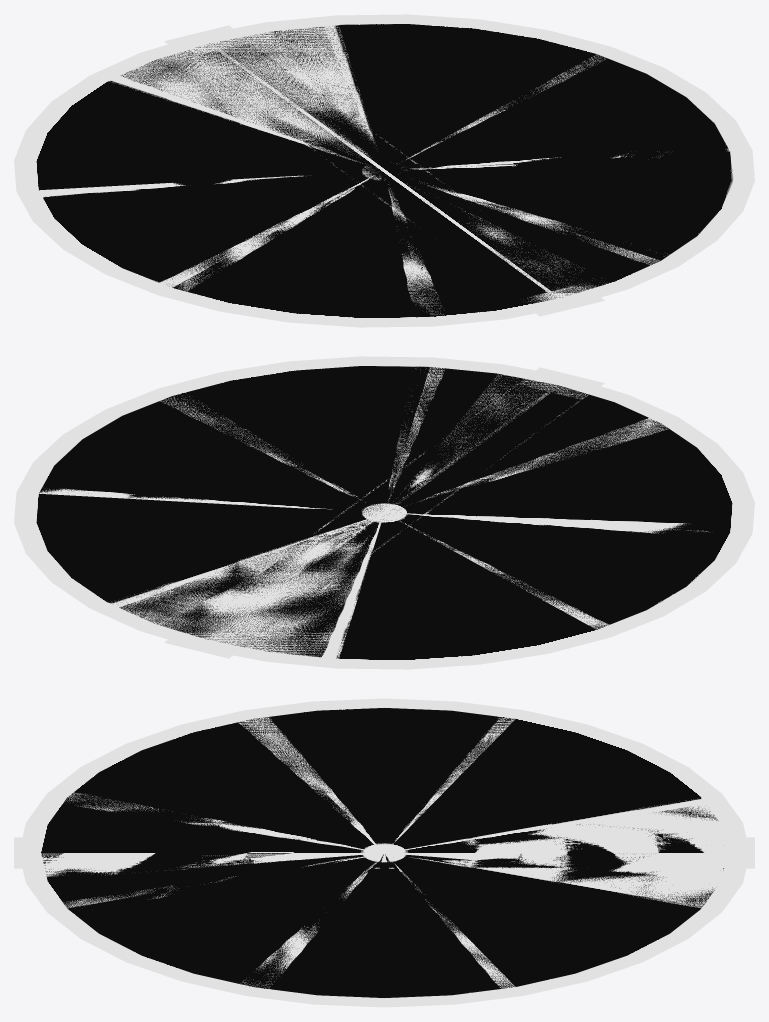
File: BSHocari.fbx
3 renders of one model, top to bottom at view 1: azimuth 30°, elevation 25°; view 2: azimuth 150°, elevation 25°; view 3: azimuth 270°, elevation 25°, orthographic.
Parts seen in each view (by area): view 1: BS_Circle, BS_Cross, BS_Moon, BS_HalfCircle, BS_Line, BS_Cone; view 2: BS_Circle, BS_Cross, BS_HalfCircle, BS_Moon, BS_Cone, BS_Line; view 3: BS_Circle, BS_HalfCircle, BS_Moon, BS_Cross, BS_Cone, BS_Line.
Part boxes in pixels (x1=…): BS_Circle: x1=14, y1=14, x2=753, y2=327; BS_Cross: x1=16, y1=15, x2=752, y2=294; BS_Moon: x1=17, y1=54, x2=754, y2=316; BS_HalfCircle: x1=200, y1=14, x2=753, y2=304; BS_Line: x1=164, y1=25, x2=604, y2=316; BS_Cone: x1=390, y1=181, x2=678, y2=326; BS_Circle: x1=14, y1=356, x2=754, y2=669; BS_Cross: x1=21, y1=393, x2=728, y2=668; BS_HalfCircle: x1=14, y1=356, x2=565, y2=647; BS_Moon: x1=17, y1=357, x2=749, y2=631; BS_Cone: x1=385, y1=357, x2=676, y2=511; BS_Line: x1=164, y1=367, x2=604, y2=658; BS_Circle: x1=19, y1=698, x2=749, y2=1007; BS_HalfCircle: x1=19, y1=853, x2=749, y2=1007; BS_Moon: x1=42, y1=698, x2=523, y2=1005; BS_Cross: x1=245, y1=698, x2=748, y2=1007; BS_Cone: x1=20, y1=795, x2=383, y2=911; BS_Line: x1=14, y1=837, x2=754, y2=868.
Bounding box in the file's own units: 60 × 0 × 60.8.
